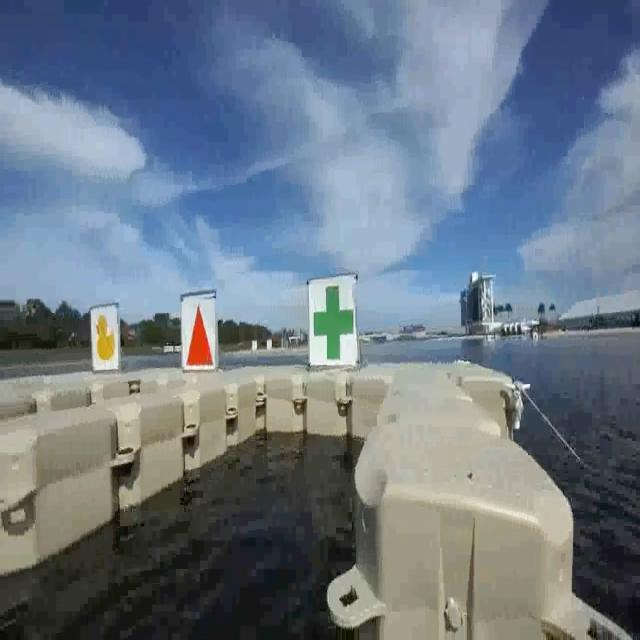blue-cross: (308, 279, 359, 365)
yellow-duck: (91, 306, 122, 373)
